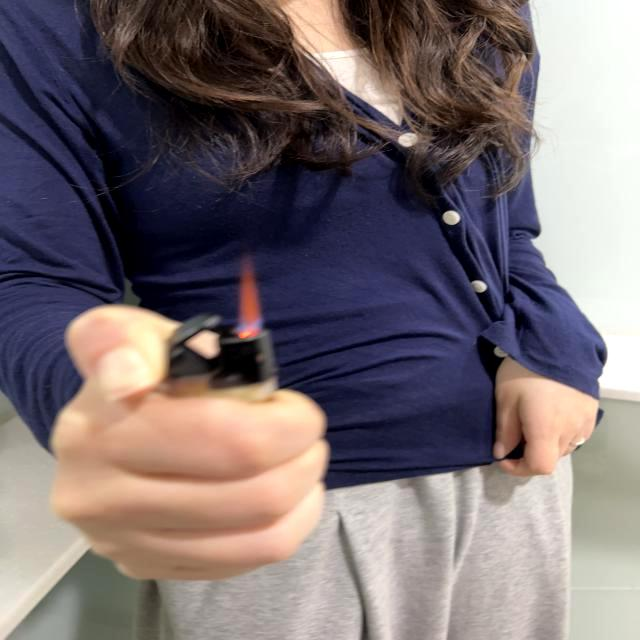fire: (236, 258, 268, 339)
